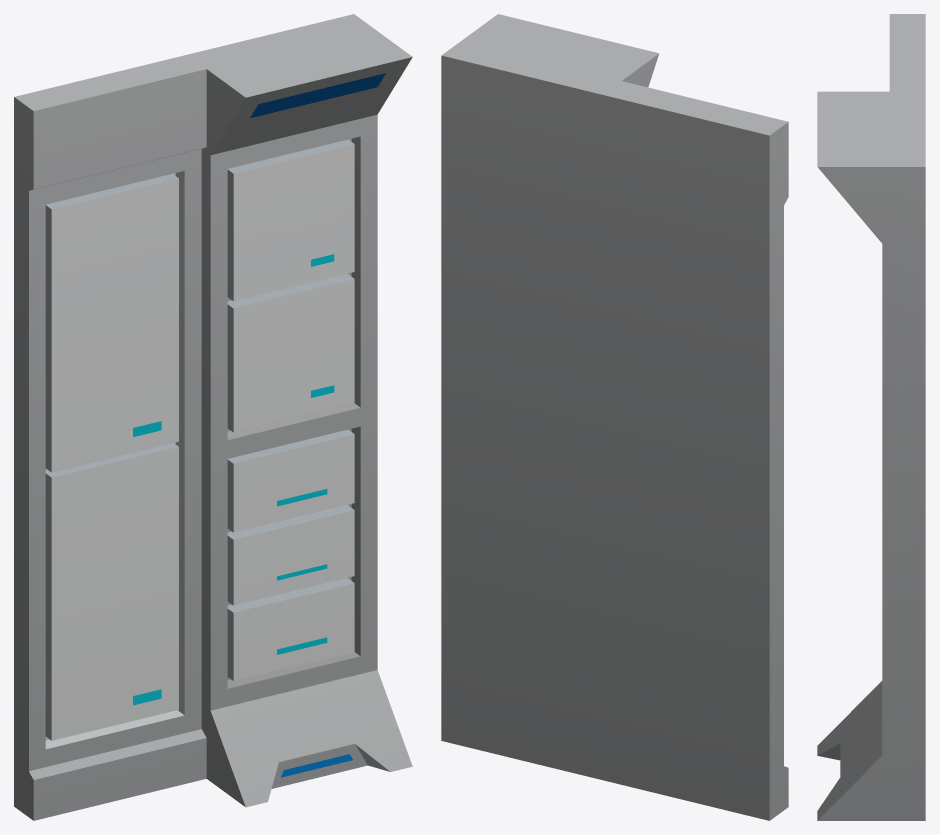
File: Wall_type_A_015.fbx
3 views of the same model, side by side, from view 1: azimuth 30°, elevation 25°; view 2: azimuth 150°, elevation 25°; view 3: azimuth 270°, elevation 25° (orthographic). The views are drawn at different scales.
Visible parts, largest first — view 1: Wall_type_A_015; view 2: Wall_type_A_015; view 3: Wall_type_A_015.
Part boxes in pixels (bbox=[...]): Wall_type_A_015: bbox=[14, 14, 412, 820]; Wall_type_A_015: bbox=[441, 14, 788, 820]; Wall_type_A_015: bbox=[817, 14, 925, 820].
Bounding box in the file's own units: 200 × 60 × 400.
